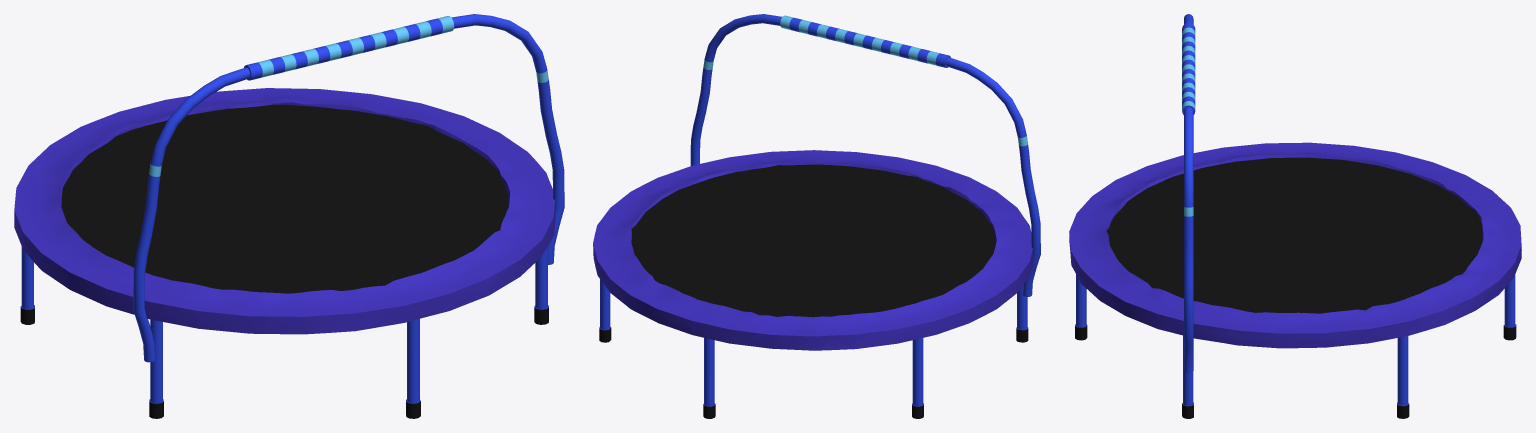
File: trampoline.obj
3 renders of one model, left to right at view 1: azimuth 30°, elevation 25°; view 2: azimuth 150°, elevation 25°; view 3: azimuth 270°, elevation 25°, orthographic. The views are drawn at different scales.
Parts seen in each view (by area): view 1: Cylinder.014_Cylinder.023; view 2: Cylinder.014_Cylinder.023; view 3: Cylinder.014_Cylinder.023.
Boxes of the visible parts, left/top/right/bottom form: Cylinder.014_Cylinder.023: left=14, top=14, right=564, bottom=418; Cylinder.014_Cylinder.023: left=593, top=14, right=1040, bottom=418; Cylinder.014_Cylinder.023: left=1069, top=14, right=1521, bottom=418.
Bounding box in the file's own units: 2.09 × 1.4 × 2.1.
